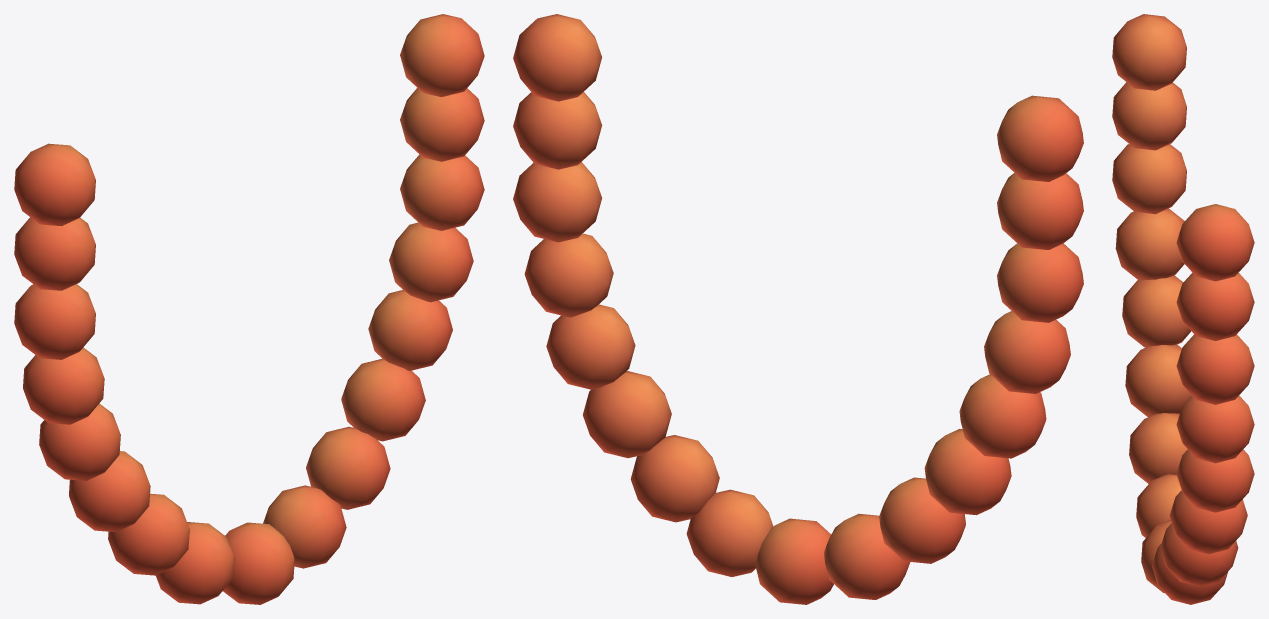
Rendered from amuletPearls2.fbx.
3 renders of one model, left to right at view 1: azimuth 30°, elevation 25°; view 2: azimuth 150°, elevation 25°; view 3: azimuth 270°, elevation 25°, orthographic. The views are drawn at different scales.
Parts seen in each view (by area): view 1: amuletPearls2; view 2: amuletPearls2; view 3: amuletPearls2.
Boxes of the visible parts, bbox=[...] form: amuletPearls2: bbox=[14, 14, 484, 604]; amuletPearls2: bbox=[513, 14, 1083, 604]; amuletPearls2: bbox=[1112, 14, 1254, 604].
Bounding box in the file's own units: 1.92 × 1.92 × 0.5184.
